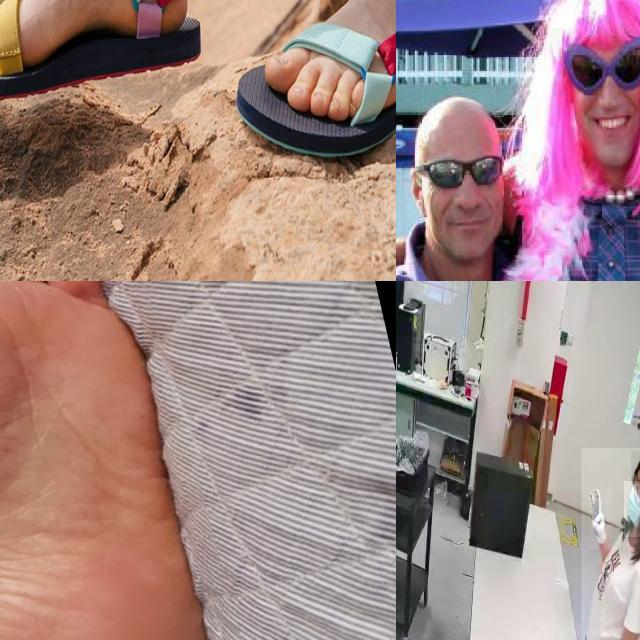Barefoots: (0, 281, 209, 640)
No_Ear-Protection: (406, 166, 431, 213)
Sandals: (237, 0, 396, 159), (0, 0, 202, 99)
face_mask: (624, 481, 640, 537)
face_nomask: (560, 52, 640, 141), (429, 156, 498, 236)
glasses: (562, 37, 640, 93), (418, 153, 504, 190)
hand_glove: (589, 486, 611, 550)
head_nohelmet: (548, 0, 640, 62), (409, 92, 501, 139), (630, 450, 640, 485)
person: (491, 0, 640, 281), (396, 88, 533, 281), (581, 447, 640, 640)
